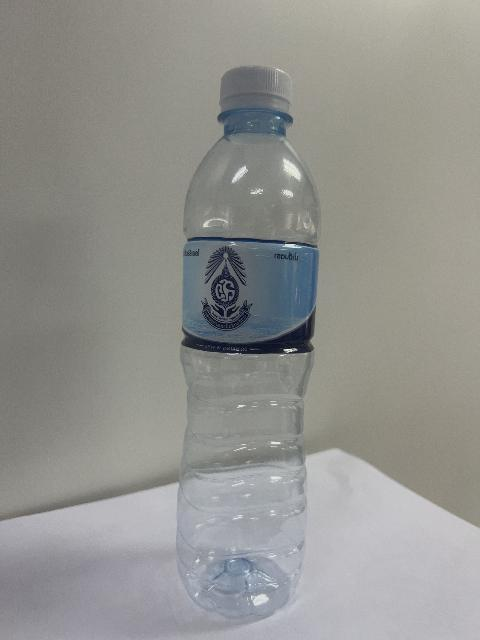bottle: (176, 67, 318, 617)
